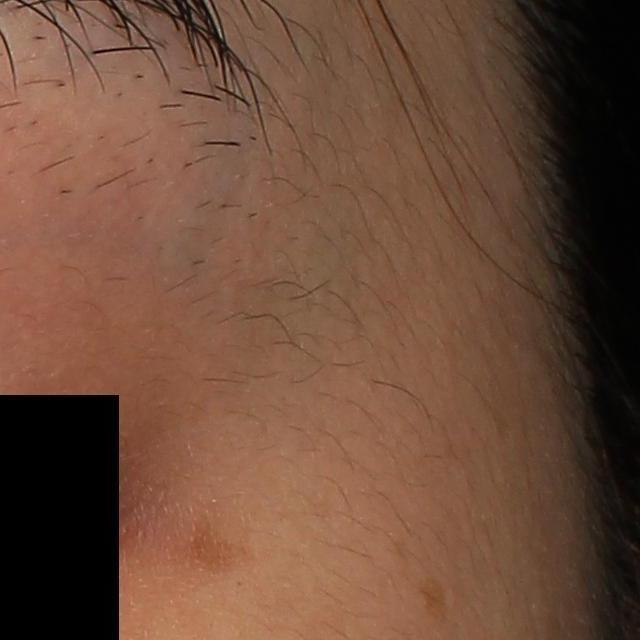melasma: (184, 500, 257, 574), (412, 571, 454, 622)
